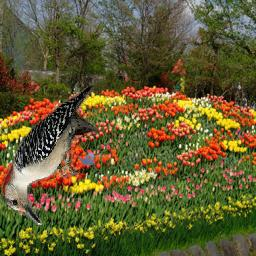Woodpecker: (1, 85, 99, 226)
